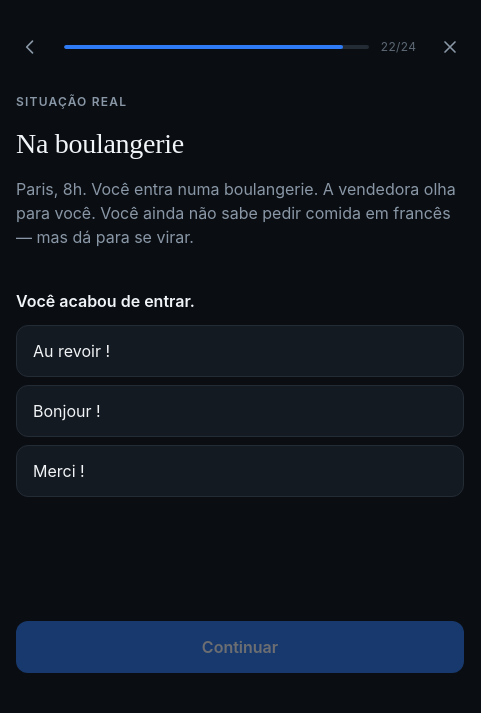
Test: Lesson 1 flow › a wrong scenario pick gives feedback and allows another try
Click the button "Au revoir !" at coordinates (72, 351), box [16,325,464,377]
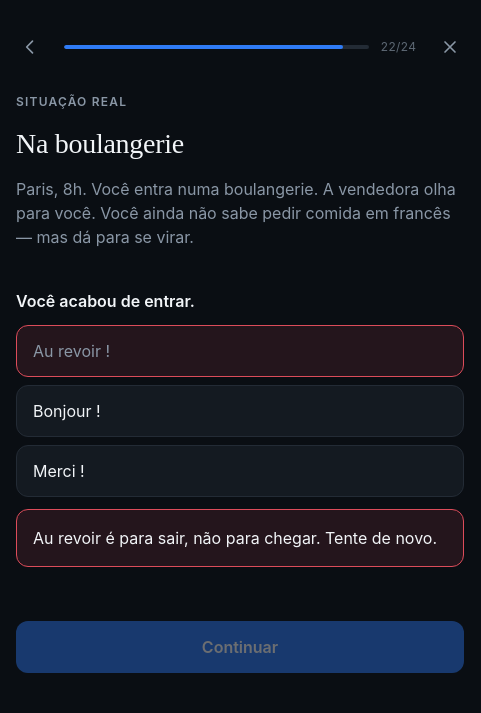
expect the text "Au revoir é para sair, não para chegar. Tente de novo." is shown: met, box [16,509,464,567]
Click the button "Bonjour !" at coordinates (67, 411), box [16,385,464,437]
(page scrolled)
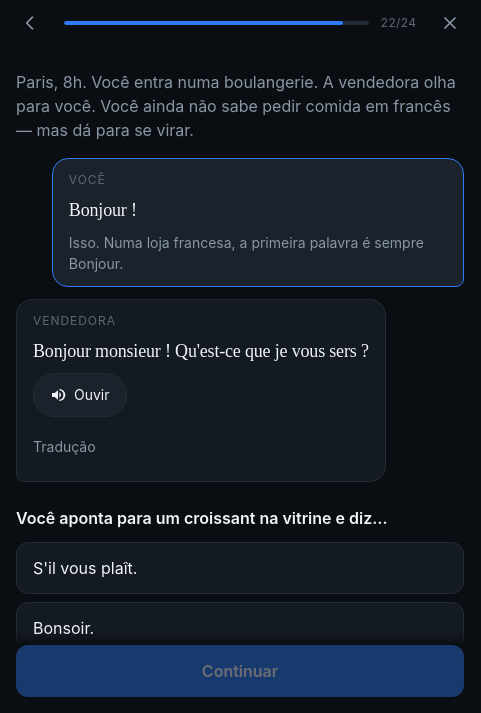
expect the text "Bonjour monsieur ! Qu'est-ce que je vous sers ?" is shown: met, box [33,338,369,365]
